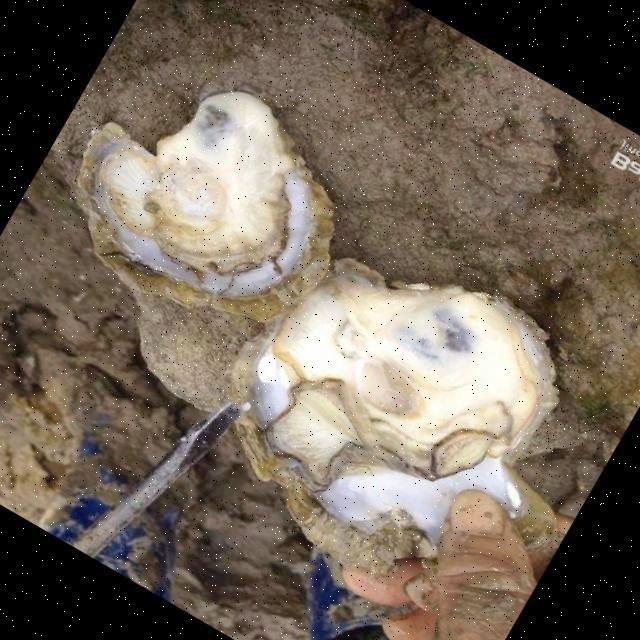Oyster-Open: (235, 255, 560, 571), (79, 90, 337, 316)
